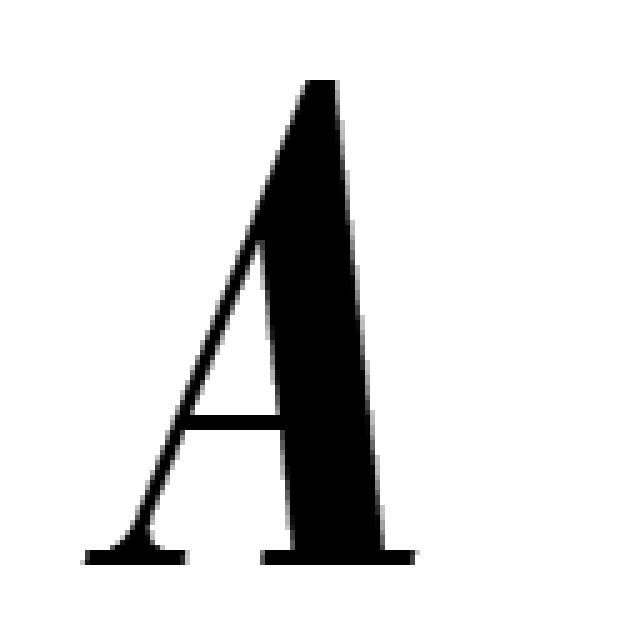A: (75, 65, 425, 575)
